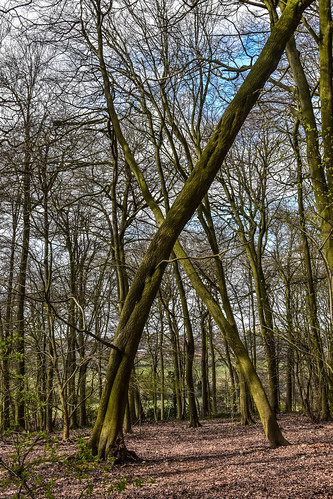vegetation: (1, 1, 333, 442)
